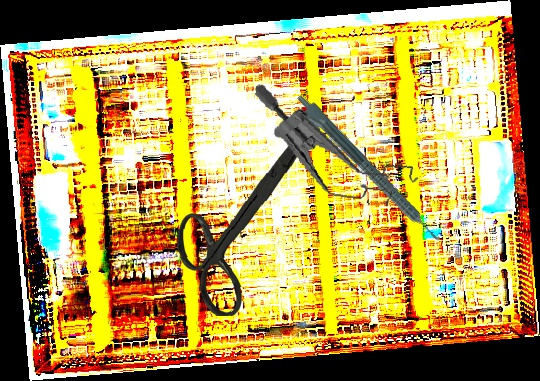Handpiece: (288, 91, 444, 251)
Iris Scissors: (174, 111, 321, 320)
Speculum: (241, 83, 429, 211)
